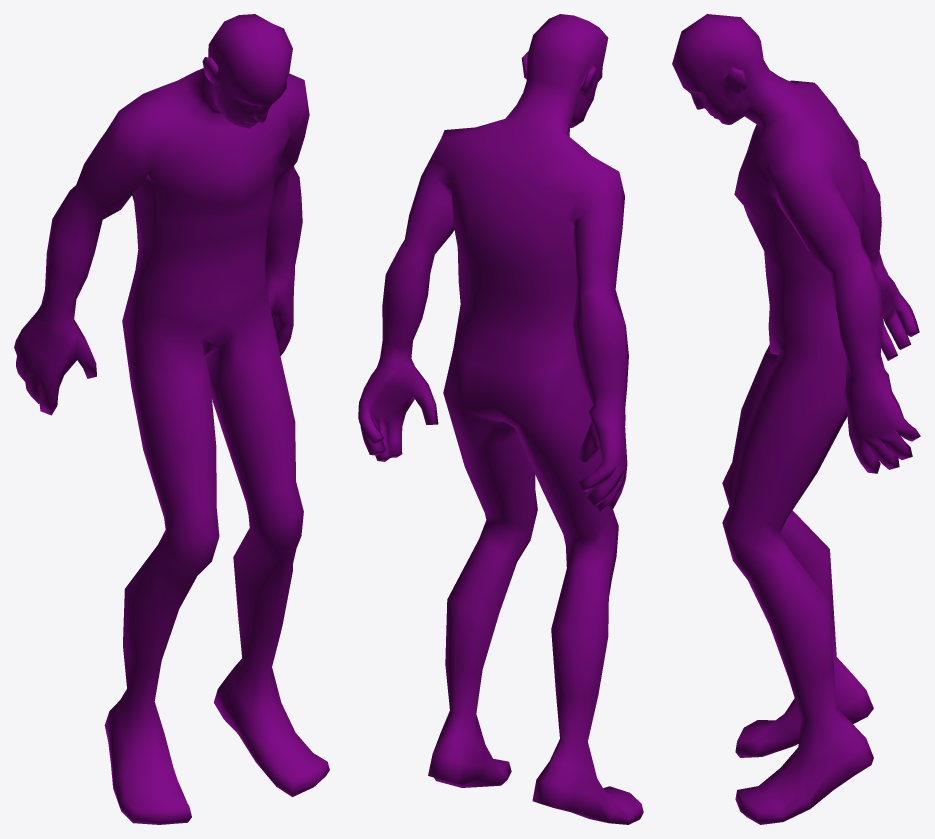
File: idle_0.obj
3 renders of one model, left to right at view 1: azimuth 30°, elevation 25°; view 2: azimuth 150°, elevation 25°; view 3: azimuth 270°, elevation 25°, orthographic. The views are drawn at different scales.
Visible parts, largest first — view 1: Low_Poly_Characte.000_Mesh.001; view 2: Low_Poly_Characte.000_Mesh.001; view 3: Low_Poly_Characte.000_Mesh.001.
Boxes of the visible parts, x1=… form: Low_Poly_Characte.000_Mesh.001: x1=14, y1=14, x2=329, y2=824; Low_Poly_Characte.000_Mesh.001: x1=358, y1=14, x2=643, y2=824; Low_Poly_Characte.000_Mesh.001: x1=672, y1=14, x2=920, y2=824.
Bounding box in the file's own units: 1.07 × 3.03 × 0.8937.
